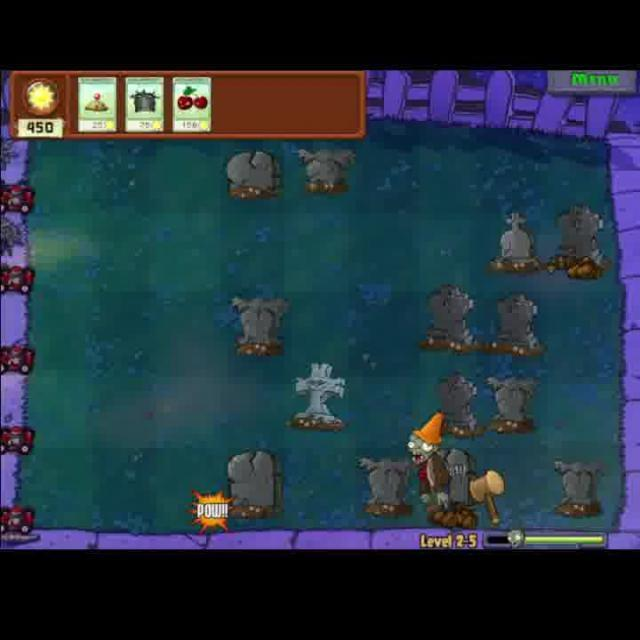zombies: (402, 410, 457, 526)
